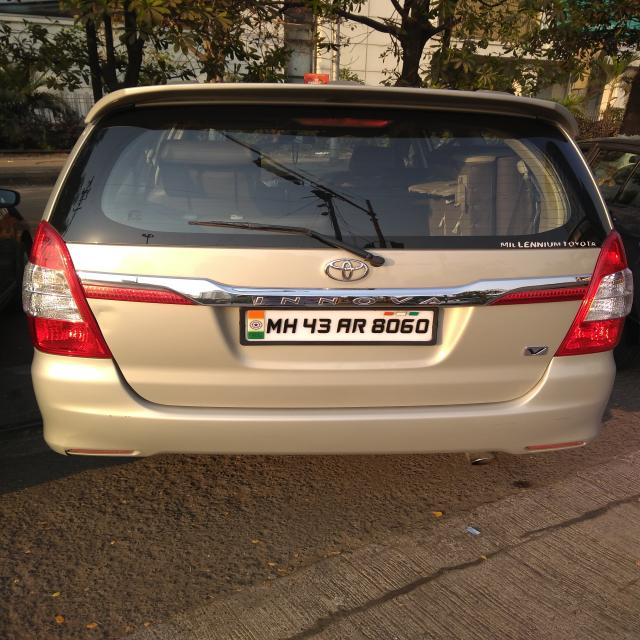Number-Plate: (251, 309, 431, 344)
